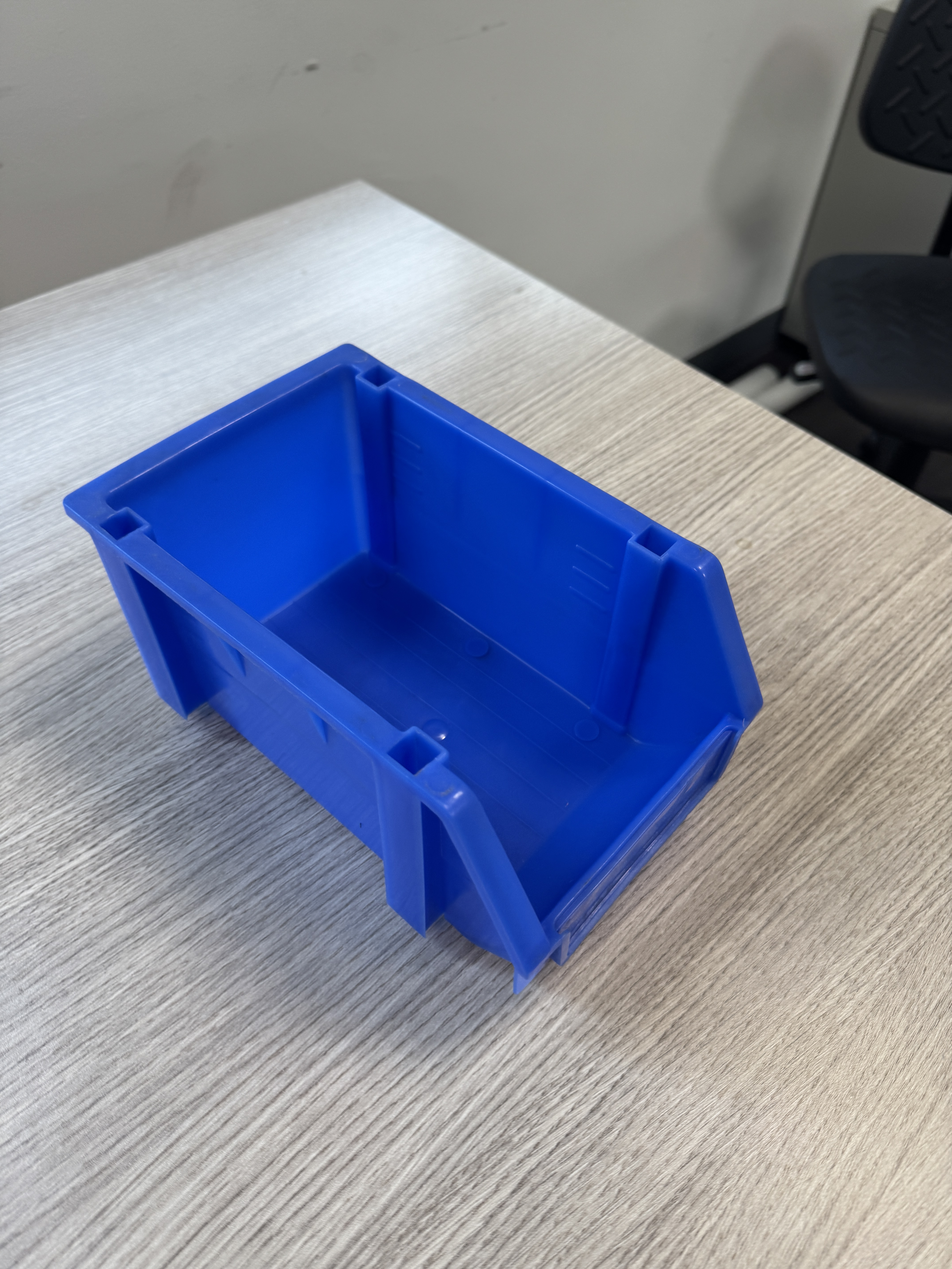Bin Boundary: (104, 242, 798, 928)
